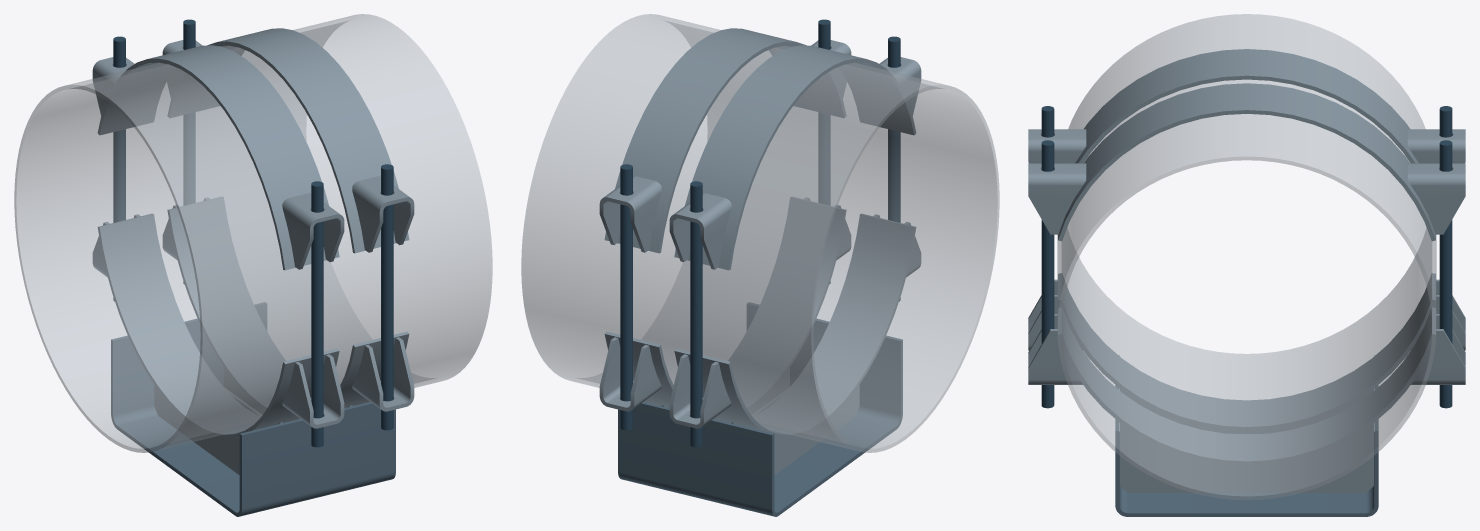
File: TS-627.00.000-030-opora-dn720-H100-L340.glb
3 views of the same model, side by side, from view 1: azimuth 30°, elevation 25°; view 2: azimuth 150°, elevation 25°; view 3: azimuth 270°, elevation 25° (orthographic).
Visible parts, largest first — view 1: truba, skoba_0, podushka_4, bugel0_podushka_0, podushka_5, bugel1_podushka_0, shpilka_1_-1, shpilka_0_-1, bugel0_ushko_2, bugel1_ushko_2, ushko_7, ushko_9 (+4 smaller); view 2: truba, skoba_0, podushka_4, bugel0_podushka_0, podushka_5, bugel1_podushka_0, shpilka_1_1, shpilka_0_1, bugel0_ushko_1, bugel1_ushko_1, ushko_6, ushko_8 (+4 smaller); view 3: truba, podushka_5, podushka_4, bugel1_podushka_0, rebro4_2, bugel0_podushka_0, skoba_0, bugel1_ushko_1, bugel1_ushko_2, shpilka_1_1, shpilka_1_-1, ushko_8 (+6 smaller).
Boxes of the visible parts, x1,y1,x2,y2 form: truba: (14, 14, 492, 452); skoba_0: (111, 302, 395, 516); podushka_4: (97, 213, 339, 438); bugel0_podushka_0: (97, 45, 339, 270); podushka_5: (167, 197, 409, 409); bugel1_podushka_0: (168, 28, 409, 253); shpilka_1_-1: (381, 164, 393, 430); shpilka_0_-1: (311, 181, 323, 447); bugel0_ushko_2: (282, 193, 344, 269); bugel1_ushko_2: (352, 176, 414, 252); ushko_7: (282, 354, 344, 428); ushko_9: (352, 337, 414, 411); truba: (521, 14, 999, 452); skoba_0: (618, 302, 902, 516); podushka_4: (674, 213, 916, 438); bugel0_podushka_0: (674, 45, 916, 270); podushka_5: (604, 197, 846, 409); bugel1_podushka_0: (604, 28, 845, 253); shpilka_1_1: (620, 164, 632, 430); shpilka_0_1: (690, 181, 702, 447); bugel0_ushko_1: (669, 193, 731, 269); bugel1_ushko_1: (599, 176, 661, 252); ushko_6: (669, 354, 731, 428); ushko_8: (599, 337, 661, 411); truba: (1057, 14, 1436, 500); podushka_5: (1058, 307, 1435, 465); podushka_4: (1058, 273, 1435, 430); bugel1_podushka_0: (1058, 83, 1435, 241); rebro4_2: (1120, 423, 1373, 492); bugel0_podushka_0: (1075, 49, 1418, 163); skoba_0: (1115, 355, 1378, 516); bugel1_ushko_1: (1407, 163, 1465, 234); bugel1_ushko_2: (1028, 163, 1086, 234); shpilka_1_1: (1439, 140, 1452, 408); shpilka_1_-1: (1041, 140, 1054, 408); ushko_8: (1411, 314, 1465, 384).
Bounding box in the file's own units: 640 × 837 × 830.
